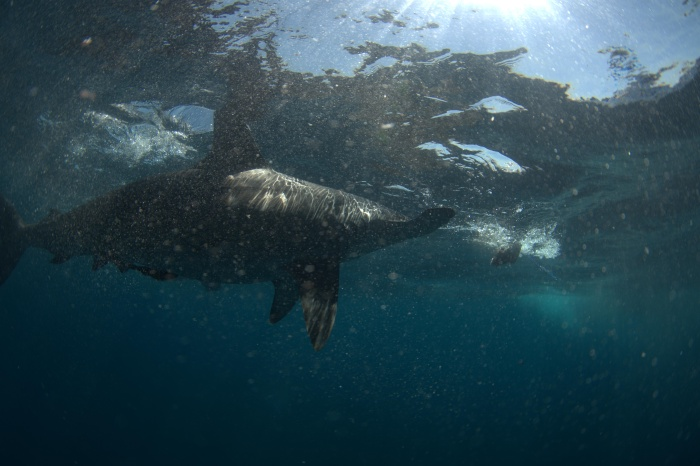Hammer: (1, 53, 489, 365)
